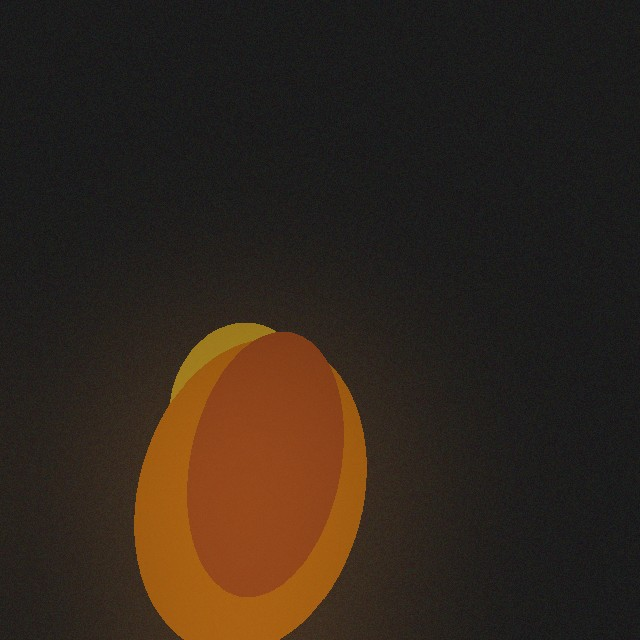fire: (178, 371, 312, 597)
